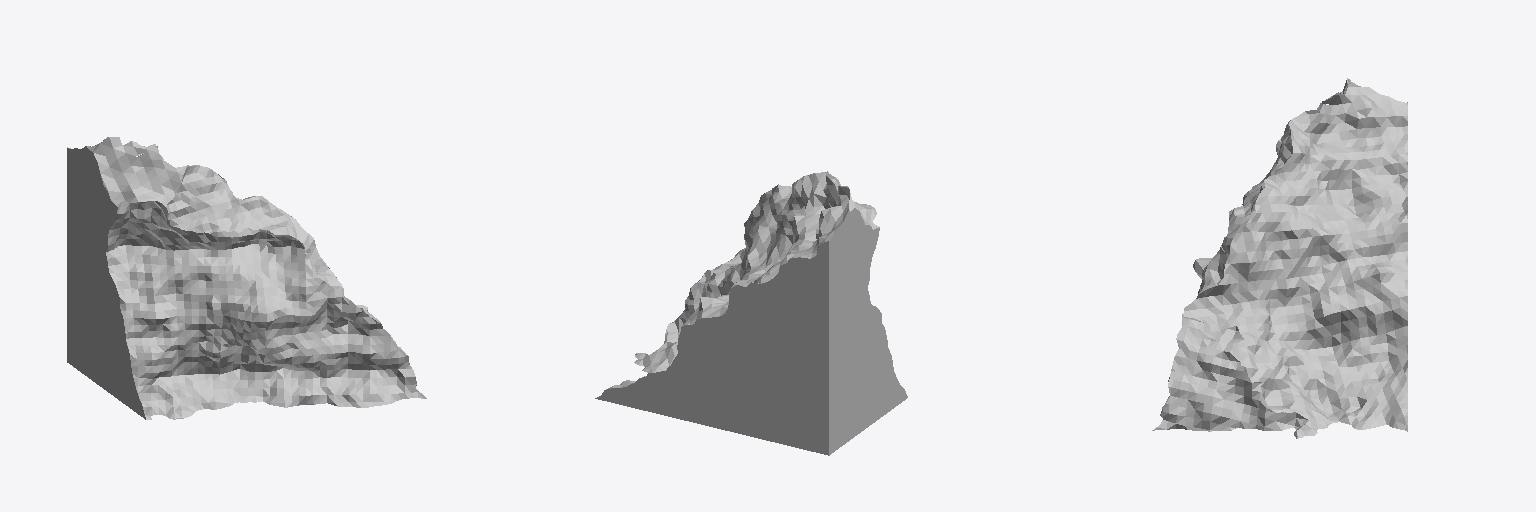
Rendered from cube_20_seed_4_shard.016.obj.
3 renders of one model, left to right at view 1: azimuth 30°, elevation 25°; view 2: azimuth 150°, elevation 25°; view 3: azimuth 270°, elevation 25°, orthographic.
Visible parts, largest first — view 1: Cube_shard.016_Cube_shard.116; view 2: Cube_shard.016_Cube_shard.116; view 3: Cube_shard.016_Cube_shard.116.
Part boxes in pixels (bbox=[...]): Cube_shard.016_Cube_shard.116: bbox=[67, 137, 426, 419]; Cube_shard.016_Cube_shard.116: bbox=[595, 171, 907, 455]; Cube_shard.016_Cube_shard.116: bbox=[1152, 78, 1407, 438].
Size of the model in its own units: 1.38 by 1.29 by 1.22.